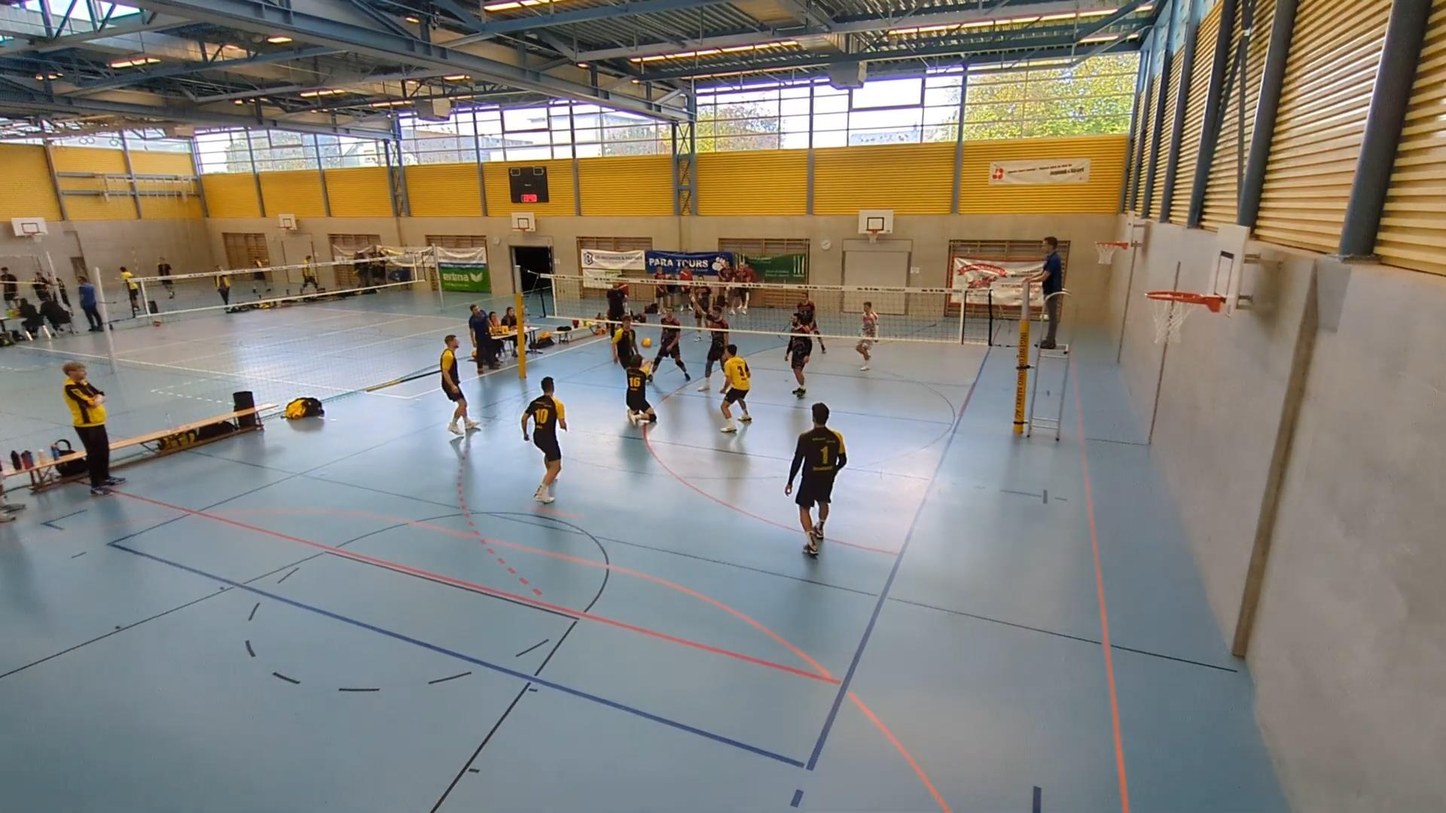difesa: (624, 352, 665, 434)
